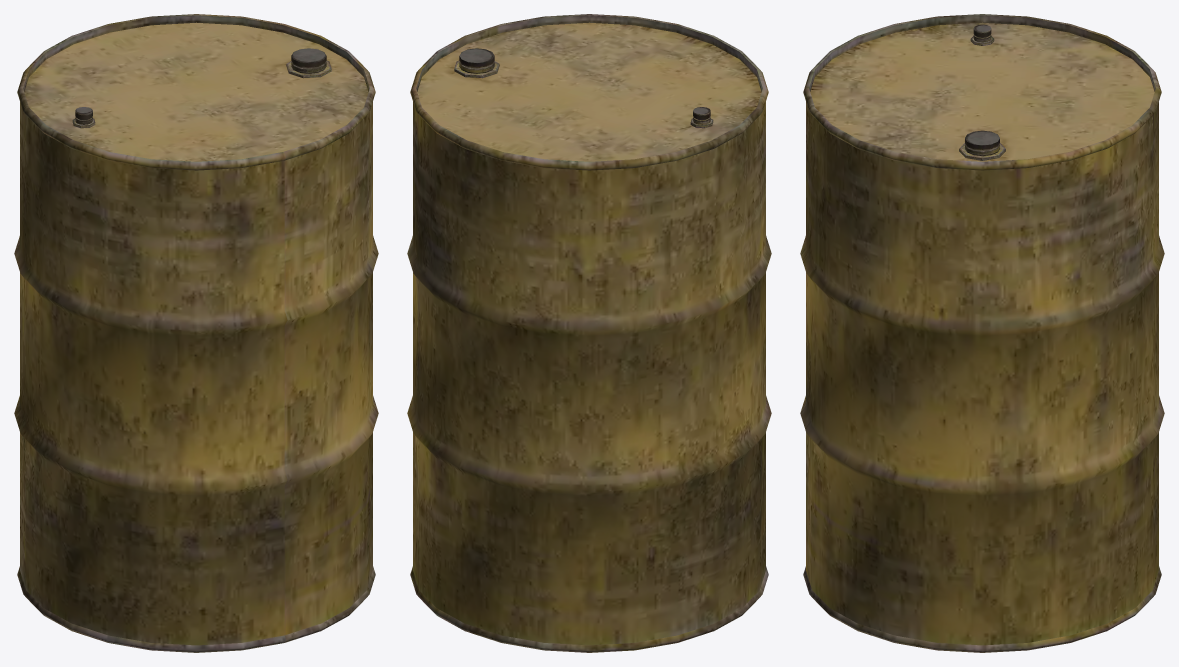
File: barrel_yellow.glb
3 renders of one model, left to right at view 1: azimuth 30°, elevation 25°; view 2: azimuth 150°, elevation 25°; view 3: azimuth 270°, elevation 25°, orthographic.
Visible parts, largest first — view 1: Barrel_01; view 2: Barrel_01; view 3: Barrel_01.
Part boxes in pixels (x1,y1,x2,y2): Barrel_01: [14, 14, 378, 652]; Barrel_01: [407, 14, 771, 652]; Barrel_01: [800, 14, 1164, 652].
Bounding box in the file's own units: 0.7223 × 1.08 × 0.7223.
Materials: 1 (1 with a texture image).
